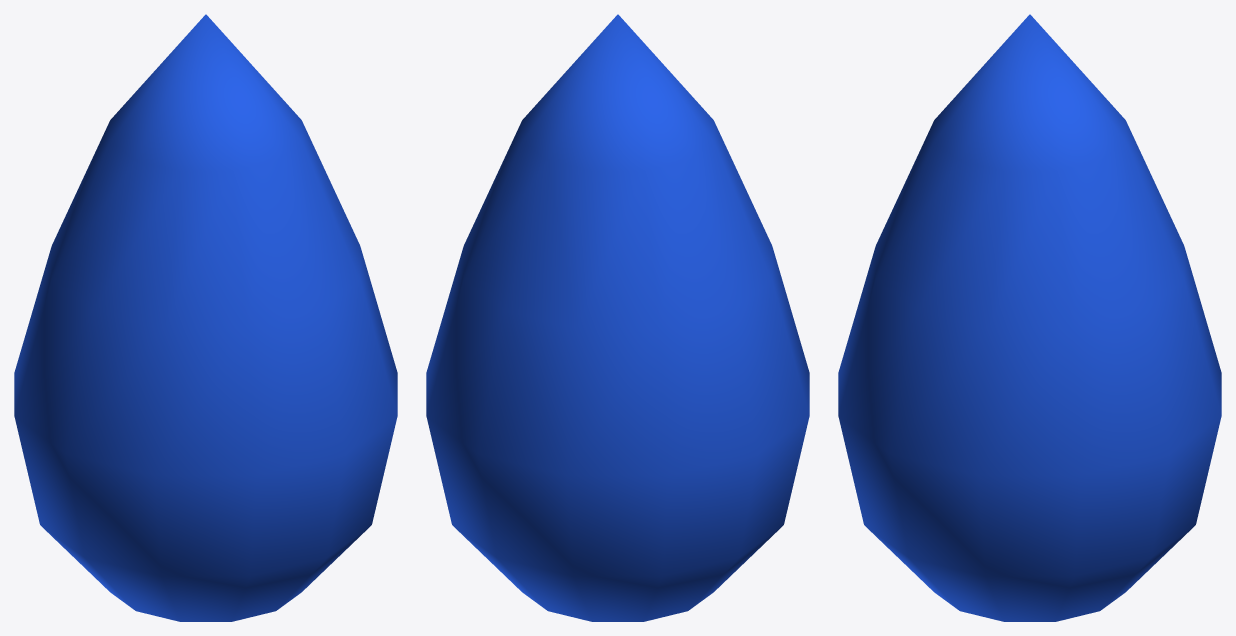
Rendered from murekkep_damla.fbx.
The picture shows the model from 3 angles, left to right: view 1: azimuth 30°, elevation 25°; view 2: azimuth 150°, elevation 25°; view 3: azimuth 270°, elevation 25°; orthographic projection.
Parts seen in each view (by area): view 1: Sphere; view 2: Sphere; view 3: Sphere.
Part boxes in pixels (left/top/right/bottom): Sphere: left=14, top=14, right=397, bottom=621; Sphere: left=426, top=14, right=809, bottom=621; Sphere: left=838, top=14, right=1221, bottom=621.
Bounding box in the file's own units: 175 × 299 × 175.
